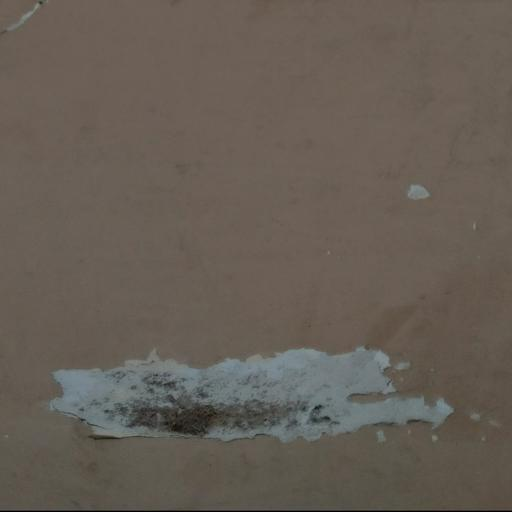peeling: (35, 340, 469, 462), (0, 0, 51, 43), (396, 178, 449, 219)
